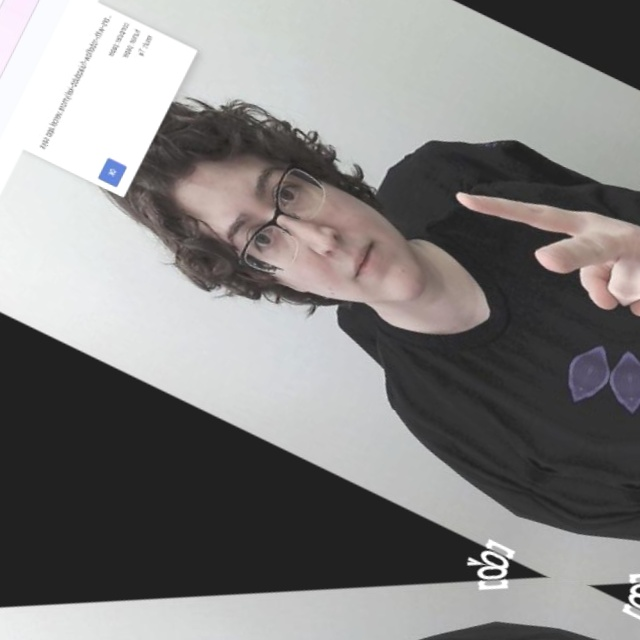Scissors: (419, 114, 640, 321)
